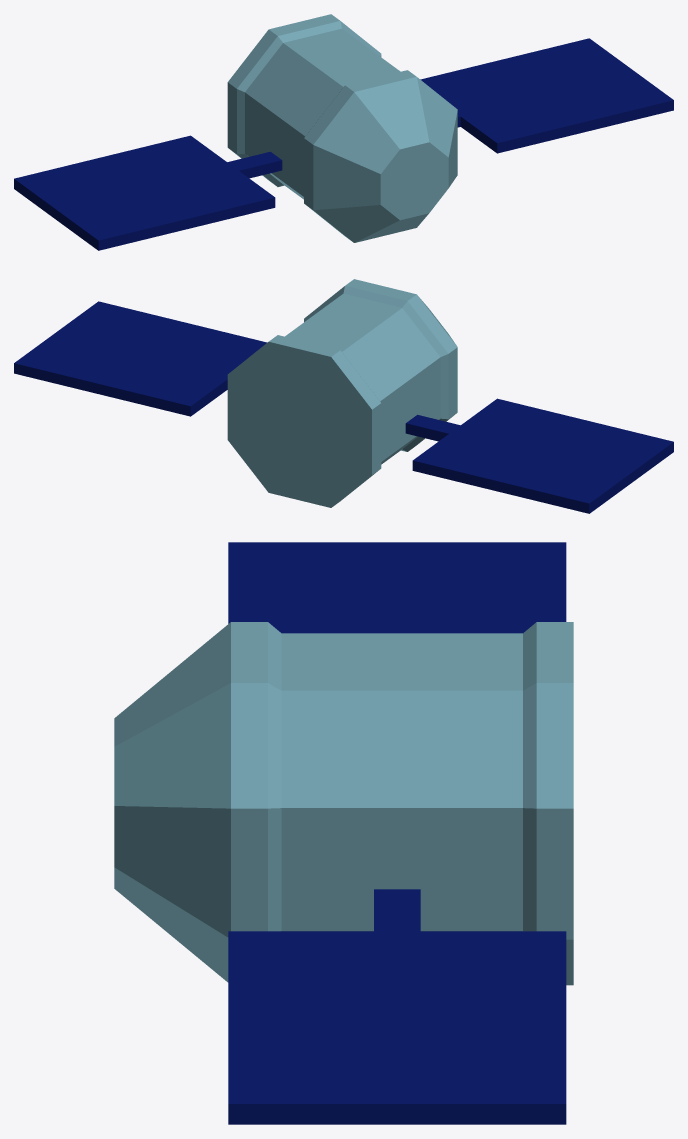
Rendered from satelliteB.FBX.
The picture shows the model from 3 angles, top to bottom: view 1: azimuth 30°, elevation 25°; view 2: azimuth 150°, elevation 25°; view 3: azimuth 270°, elevation 25°; orthographic projection. The views are drawn at different scales.
Parts seen in each view (by area): view 1: satelliteB; view 2: satelliteB; view 3: satelliteB.
Part boxes in pixels (x1,y1,x2,y2): satelliteB: (14, 14, 673, 250); satelliteB: (14, 279, 673, 513); satelliteB: (114, 542, 573, 1124).
Size of the model in its own units: 906 by 227 by 313.
